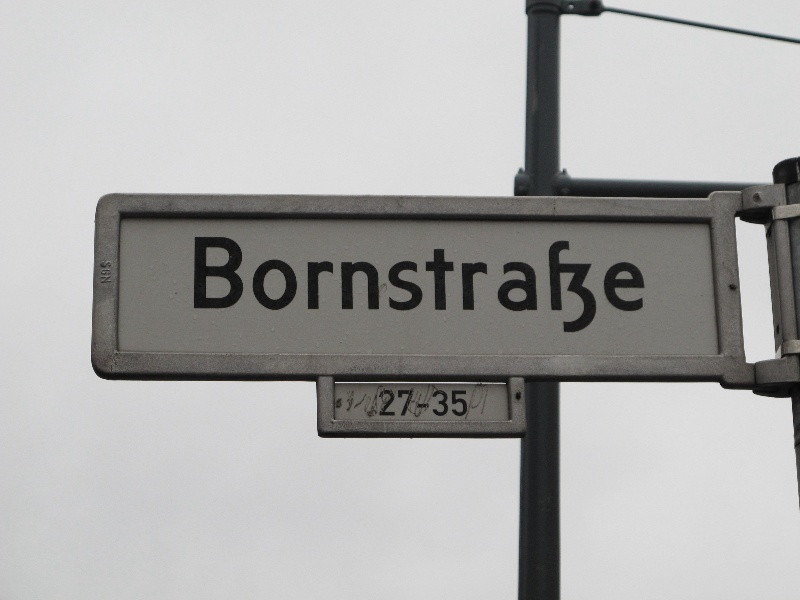text: (209, 238, 224, 336), (225, 238, 240, 336), (241, 238, 256, 336), (257, 238, 272, 336), (273, 238, 288, 336), (289, 238, 304, 336), (305, 238, 320, 336), (321, 238, 336, 336), (337, 238, 352, 336), (353, 238, 368, 336), (369, 238, 384, 336), (385, 238, 400, 336), (401, 238, 416, 336), (417, 238, 432, 336), (433, 238, 448, 336), (449, 238, 464, 336), (465, 238, 480, 336), (481, 238, 496, 336), (497, 238, 512, 336), (513, 238, 528, 336), (529, 238, 544, 336), (545, 238, 560, 336), (561, 238, 576, 336), (577, 238, 592, 336), (593, 238, 608, 336), (609, 238, 624, 336), (625, 238, 640, 336), (194, 238, 208, 336), (641, 238, 648, 336), (353, 385, 368, 420), (369, 385, 384, 420), (385, 385, 400, 420), (401, 385, 416, 420), (417, 385, 432, 420), (433, 385, 448, 420), (449, 385, 464, 420), (465, 385, 480, 420), (385, 389, 400, 418), (401, 389, 416, 418), (417, 389, 432, 418), (433, 389, 448, 418), (449, 389, 464, 418), (481, 385, 489, 420), (100, 261, 112, 284), (347, 385, 352, 420), (380, 389, 384, 418), (465, 389, 468, 418)
